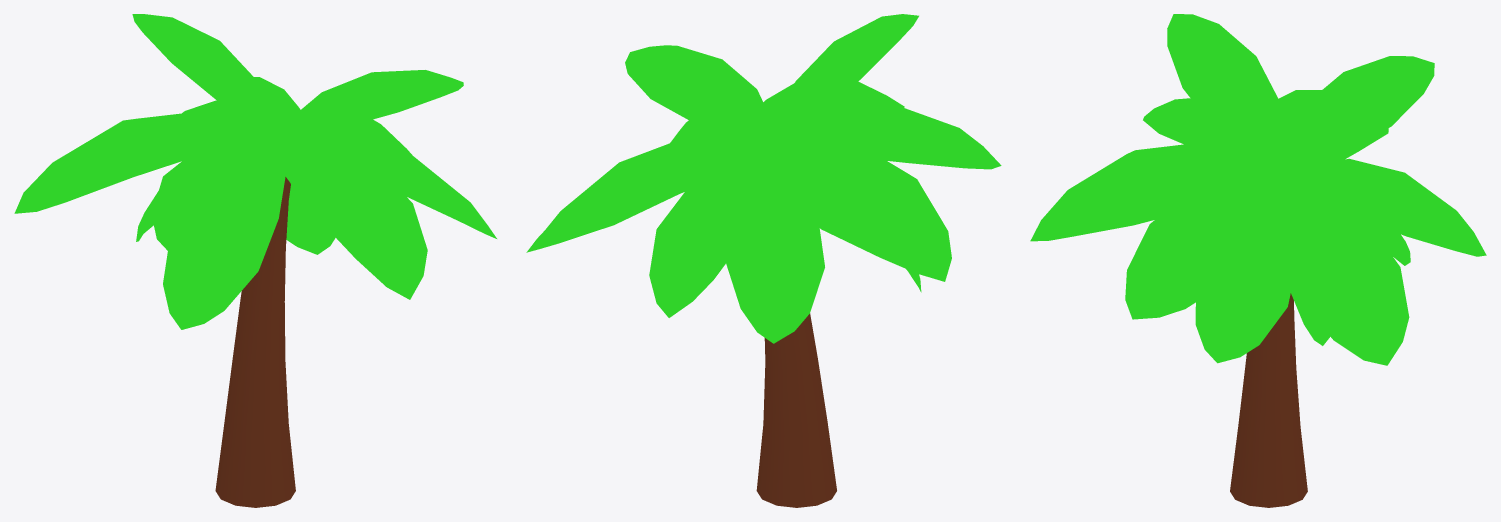
File: PalmTree1.FBX
3 renders of one model, left to right at view 1: azimuth 30°, elevation 25°; view 2: azimuth 150°, elevation 25°; view 3: azimuth 270°, elevation 25°, orthographic. The views are drawn at different scales.
Parts seen in each view (by area): view 1: Object039; view 2: Object039; view 3: Object039.
Boxes of the visible parts, x1,y1,x2,y2 form: Object039: [14, 14, 496, 507]; Object039: [526, 14, 1001, 507]; Object039: [1030, 14, 1486, 507].
Bounding box in the file's own units: 86.79 × 93.81 × 87.62.
